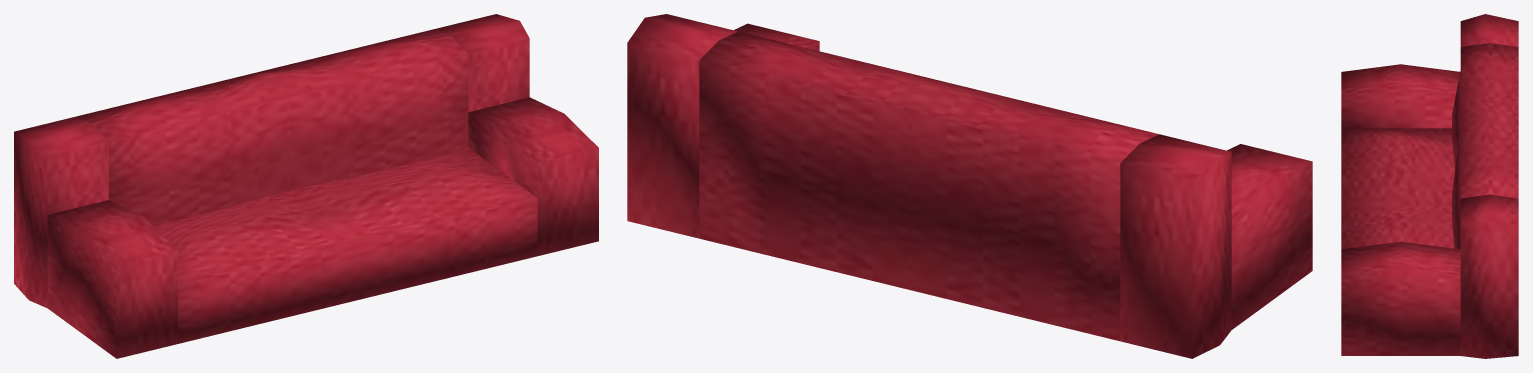
File: couch.fbx
3 views of the same model, side by side, from view 1: azimuth 30°, elevation 25°; view 2: azimuth 150°, elevation 25°; view 3: azimuth 270°, elevation 25° (orthographic). The views are drawn at different scales.
Visible parts, largest first — view 1: Plane; view 2: Plane; view 3: Plane.
Boxes of the visible parts, <box> form: Plane: <box>14,14,598,358</box>; Plane: <box>627,14,1312,358</box>; Plane: <box>1341,14,1518,358</box>.
Bounding box in the file's own units: 427 × 136 × 154.
